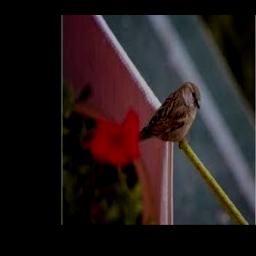Sparrow: (137, 81, 201, 149)
